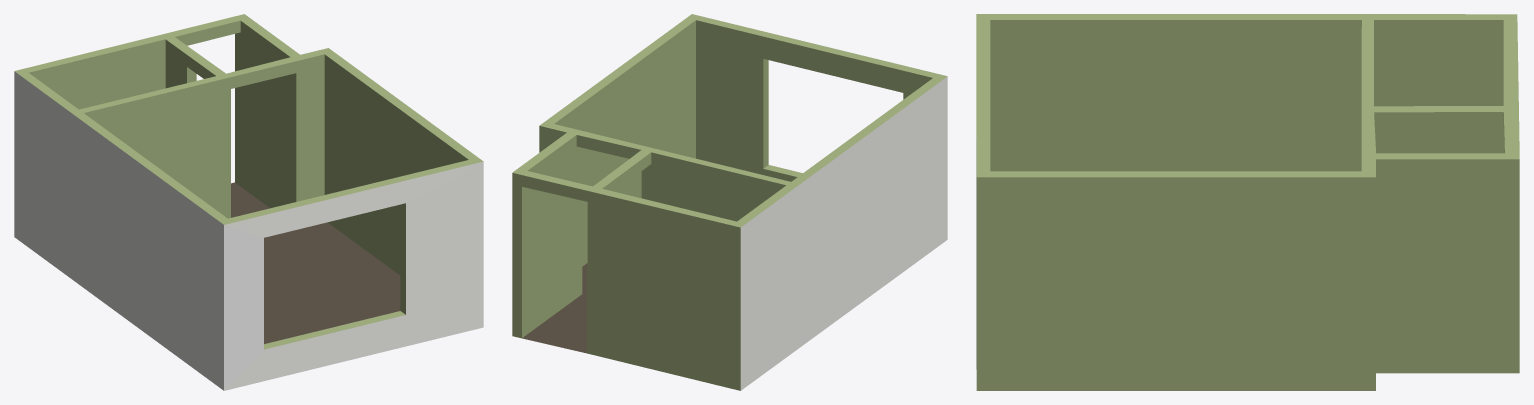
The model's file is EscenaCprincipal.fbx.
3 renders of one model, left to right at view 1: azimuth 30°, elevation 25°; view 2: azimuth 150°, elevation 25°; view 3: azimuth 270°, elevation 25°, orthographic. The views are drawn at different scales.
Parts seen in each view (by area): view 1: Cube.009; view 2: Cube.009; view 3: Cube.009.
Part boxes in pixels (bbox=[...]): Cube.009: bbox=[14, 14, 483, 390]; Cube.009: bbox=[512, 14, 947, 390]; Cube.009: bbox=[976, 14, 1519, 390].
Size of the model in its own units: 4.88 by 2.98 by 6.87.
